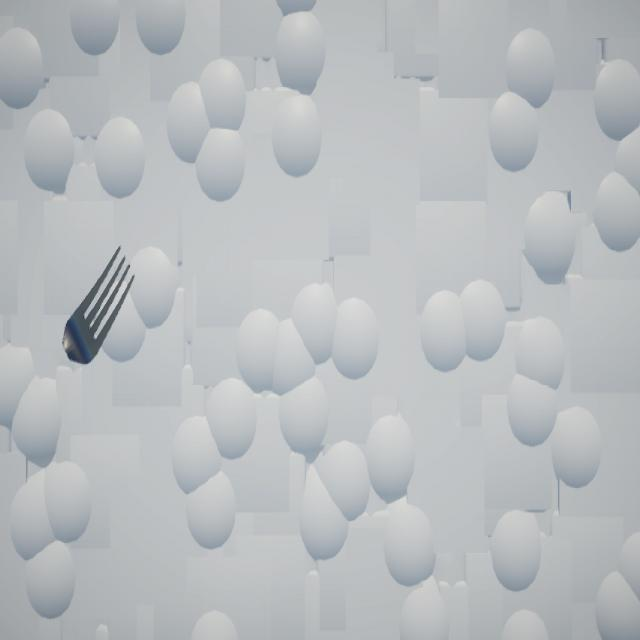top_folk: (63, 247, 136, 367)
